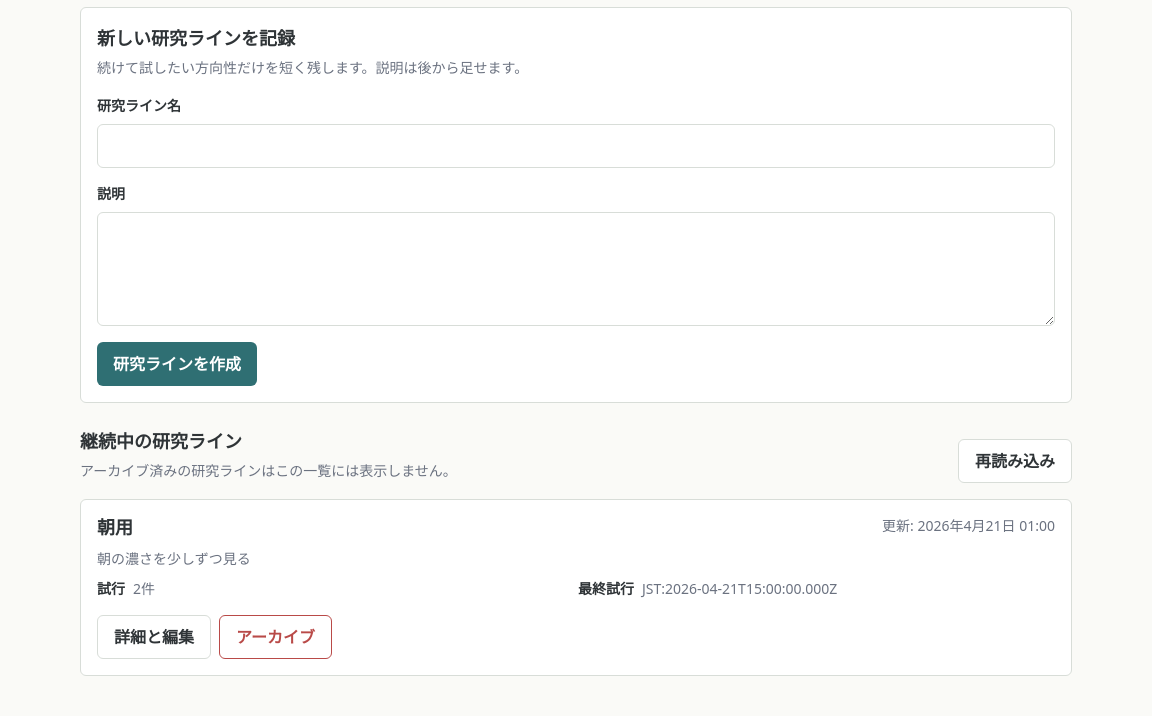
Test: ResearchLinesListClient › removes an archived line from the active list after confirmation
(page scrolled)
Click the button "アーカイブ" at (276, 636), box [219, 614, 332, 658]
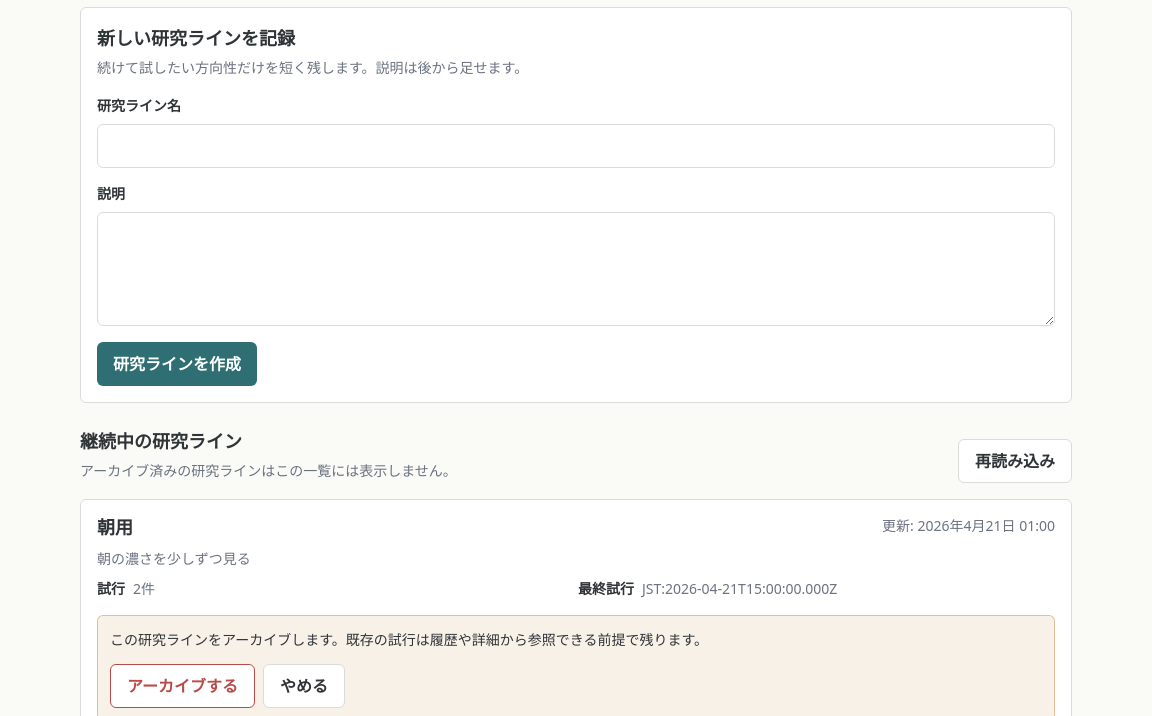
Click the button "アーカイブする" at (182, 686), box [110, 664, 255, 708]
(page scrolled)
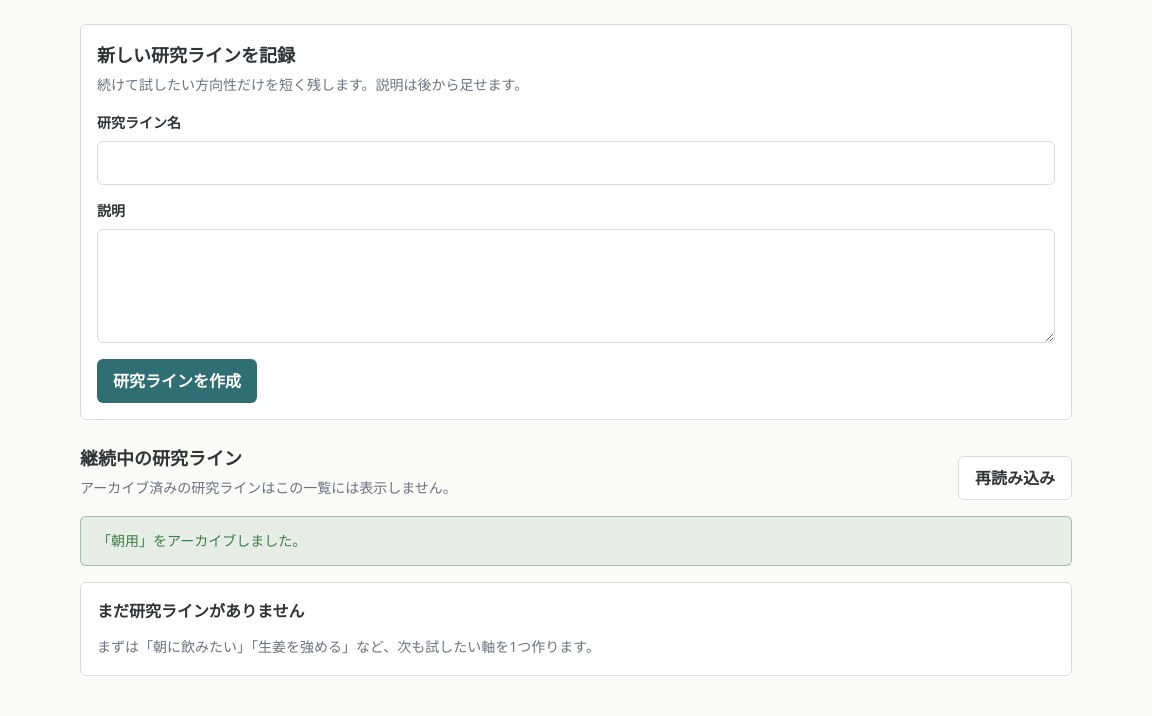
Result: the text "「朝用」をアーカイブしました。" is shown at [80, 516, 1072, 566]
